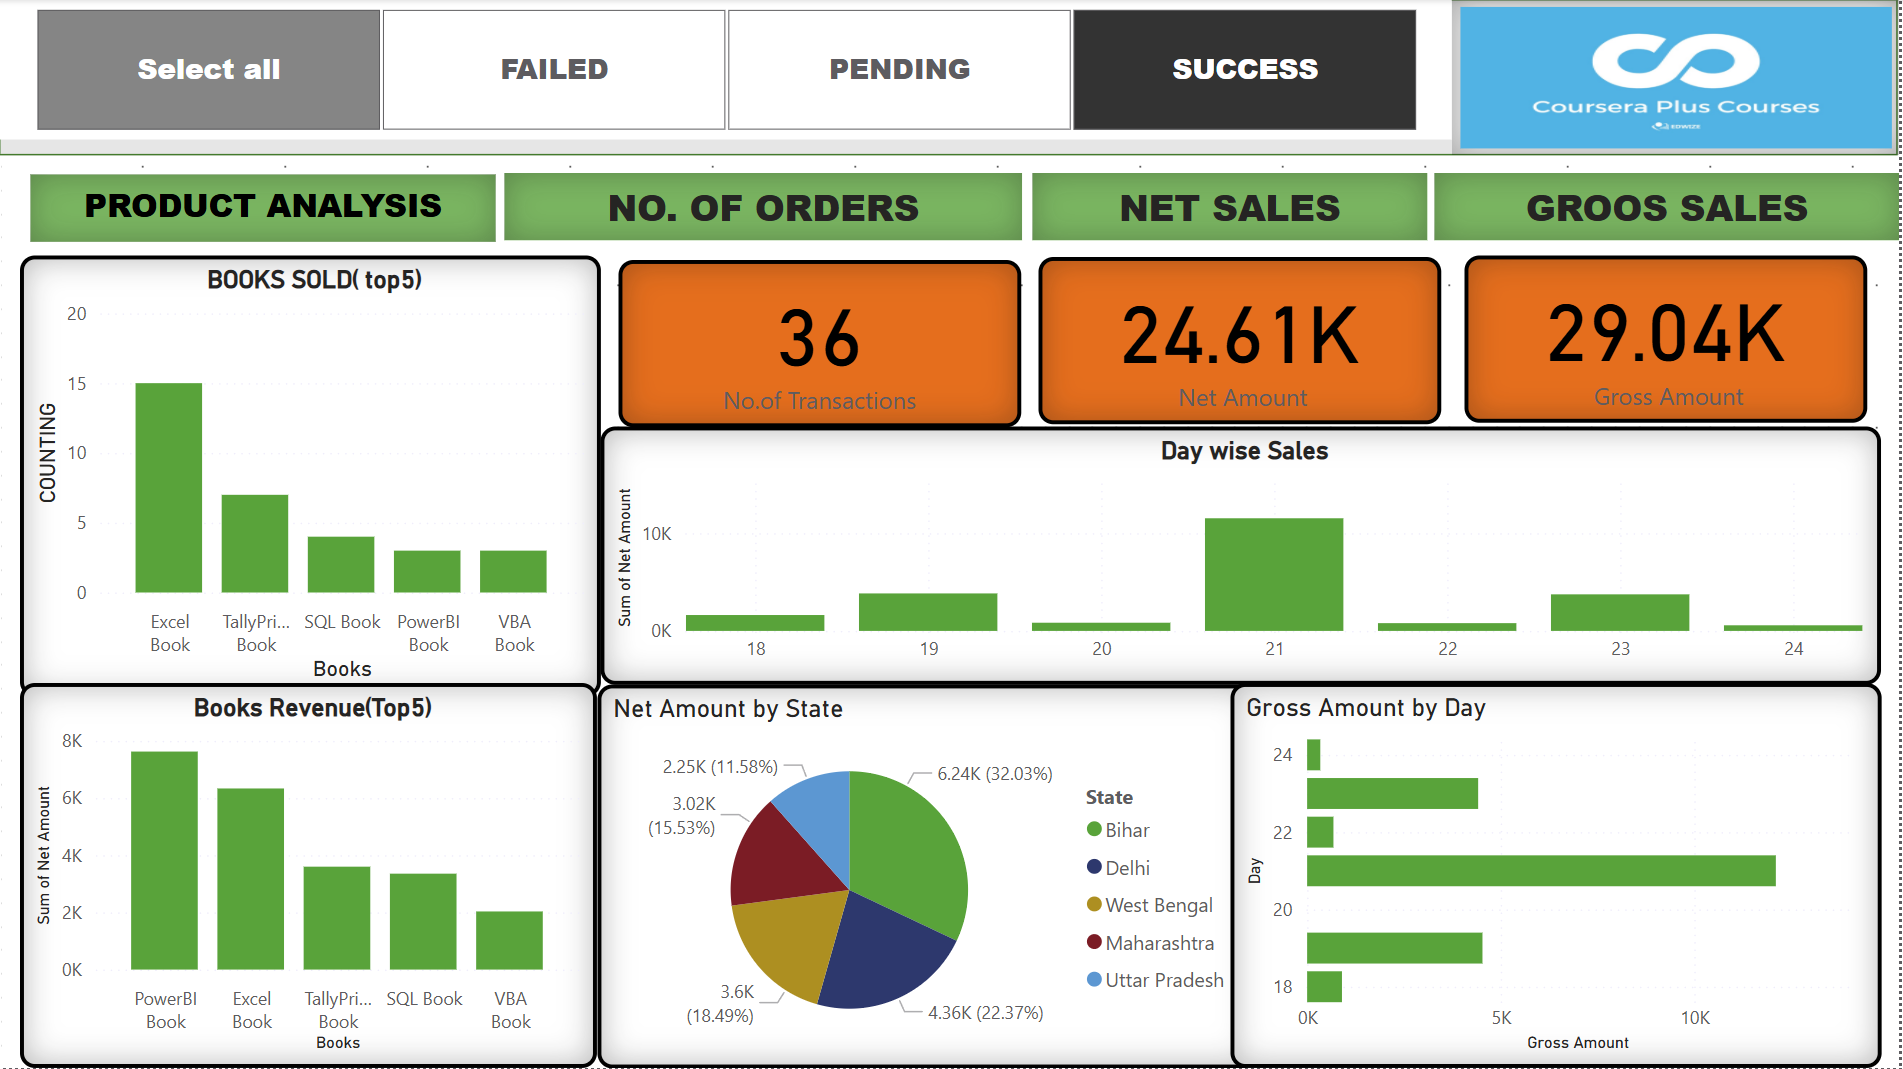

What the dashboard file says about the page in this screenshot:
{"tool":"powerbi","page":{"name":"7 days sales of books","canvas":[1280,720],"ordinal":0},"visuals":[{"type":"shape","box":[0,0,1280.4,105.4],"z":0},{"type":"image","box":[979.1,0,301.3,105.4],"z":1000},{"type":"slicer","fields":{"Values":["7 Days Books Sales Report File.Payment Status"]},"box":[0,0,979,94.8],"z":2000},{"type":"textbox","box":[21.2,118.2,313.3,45.5],"z":3000},{"type":"textbox","box":[340.5,117.2,348.6,45.5],"z":4000},{"type":"textbox","box":[966.7,117.2,313.3,45.5],"z":5000},{"type":"textbox","box":[696.3,117.2,265.8,45.5],"z":6000},{"type":"columnChart","title":"BOOKS SOLD( top5)","fields":{"Category":["7 Days Books Sales Report File.Books"],"Y":["CountNonNull(7 Days Books Sales Report File.Books)"]},"box":[14.2,173,391.1,297.5],"z":7000},{"type":"columnChart","title":"Books Revenue(Top5)","fields":{"Category":["7 Days Books Sales Report File.Books"],"Y":["Sum(7 Days Books Sales Report File.Net Amount)"]},"box":[14.2,461,388.7,259.6],"z":8000},{"type":"columnChart","title":"Day wise Sales","fields":{"Category":["7 Days Books Sales Report File.Order Date.Variation.Date Hierarchy.Day"],"Y":["Sum(7 Days Books Sales Report File.Net Amount)"]},"box":[405.3,288,862.8,174.2],"z":9000},{"type":"card","fields":{"Values":["CountNonNull(7 Days Books Sales Report File.Order Date)"]},"box":[417.2,175.4,271.4,112.6],"z":10000},{"type":"pieChart","fields":{"Category":["7 Days Books Sales Report File.State"],"Y":["Sum(7 Days Books Sales Report File.Net Amount)"]},"box":[403,462.2,443.3,258.4],"z":11000},{"type":"card","fields":{"Values":["Sum(7 Days Books Sales Report File.Net Amount)"]},"box":[700.4,174.2,271.4,112.6],"z":12000},{"type":"card","fields":{"Values":["Sum(7 Days Books Sales Report File.Gross Amount)"]},"box":[987.3,173,271.4,112.6],"z":13000},{"type":"barChart","fields":{"Category":["7 Days Books Sales Report File.Order Date.Variation.Date Hierarchy.Day"],"Y":["Sum(7 Days Books Sales Report File.Gross Amount)"]},"box":[829.6,461,438.5,259.6],"z":14000}]}

Visuals, with their boxes in screenshot pixels (x1, y1, x2, y2), scaled from the page's 1280x720 canvas onto the 1903x1069 screenshot:
shape: <box>0,0,1902,156</box>
image: <box>1456,0,1902,156</box>
slicer - 7 Days Books Sales Report File.Payment Status: <box>0,0,1455,141</box>
textbox: <box>32,175,497,243</box>
textbox: <box>506,174,1024,242</box>
textbox: <box>1437,174,1902,242</box>
textbox: <box>1035,174,1430,242</box>
"BOOKS SOLD( top5)" columnChart: <box>21,257,603,699</box>
"Books Revenue(Top5)" columnChart: <box>21,684,599,1068</box>
"Day wise Sales" columnChart: <box>603,428,1885,686</box>
card - CountNonNull(7 Days Books Sales Report File.Order Date): <box>620,260,1024,428</box>
pieChart - 7 Days Books Sales Report File.State x Sum(7 Days Books Sales Report File.Net Amount): <box>599,686,1258,1068</box>
card - Sum(7 Days Books Sales Report File.Net Amount): <box>1041,259,1445,426</box>
card - Sum(7 Days Books Sales Report File.Gross Amount): <box>1468,257,1871,424</box>
barChart - 7 Days Books Sales Report File.Order Date.Variation.Date Hierarchy.Day x Sum(7 Days Books Sales Report File.Gross Amount): <box>1233,684,1885,1068</box>
